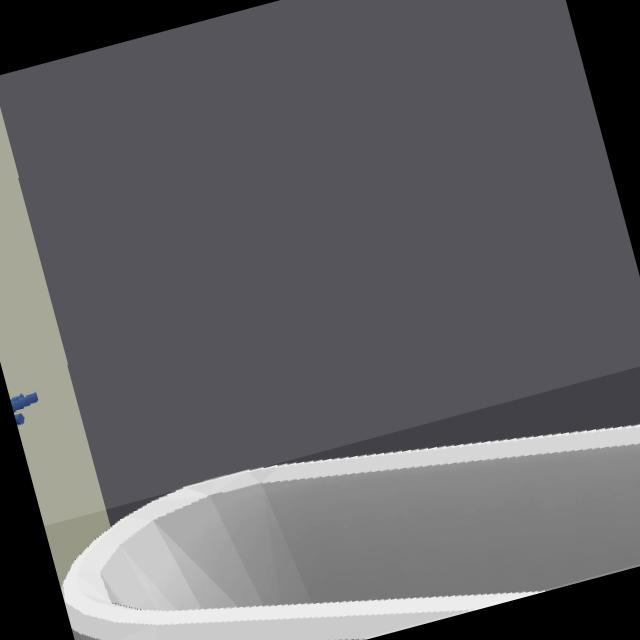bathtube: (62, 424, 640, 640)
